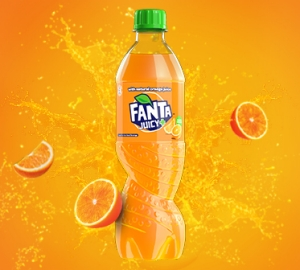Fanta: (92, 13, 194, 260)
